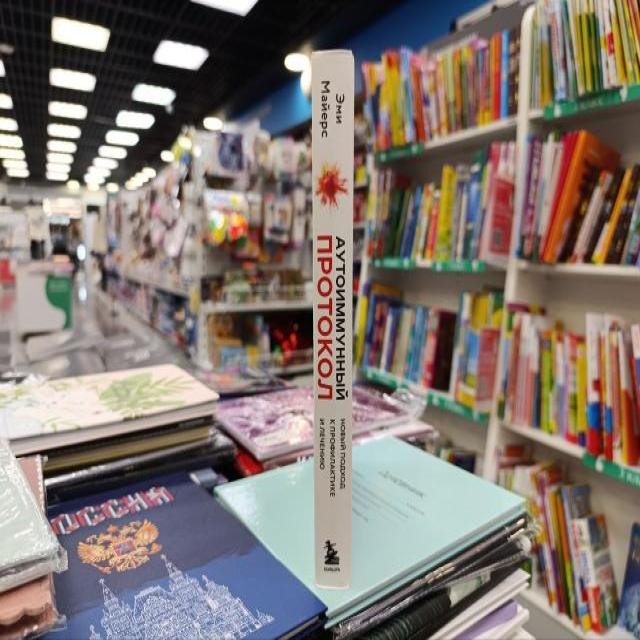book: (313, 52, 353, 588)
